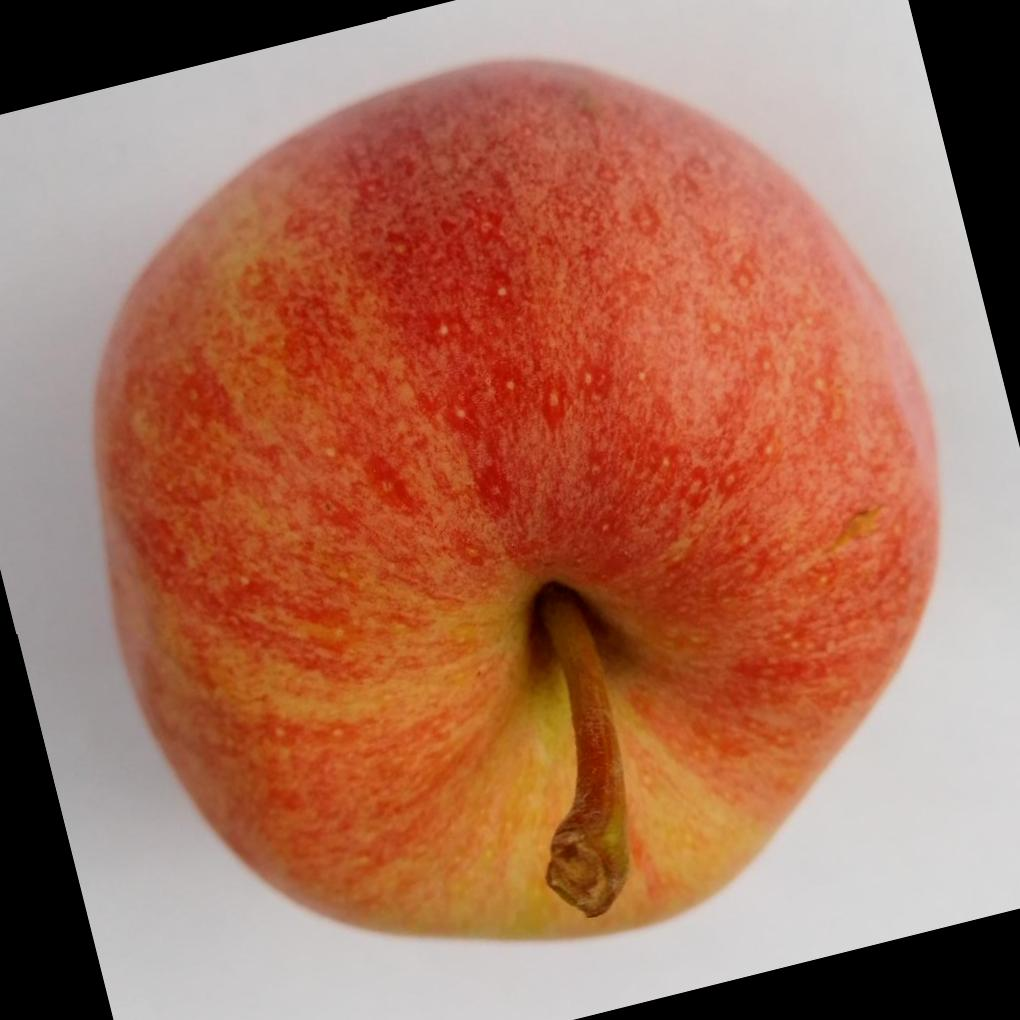FreshGuava: (85, 57, 940, 947)
